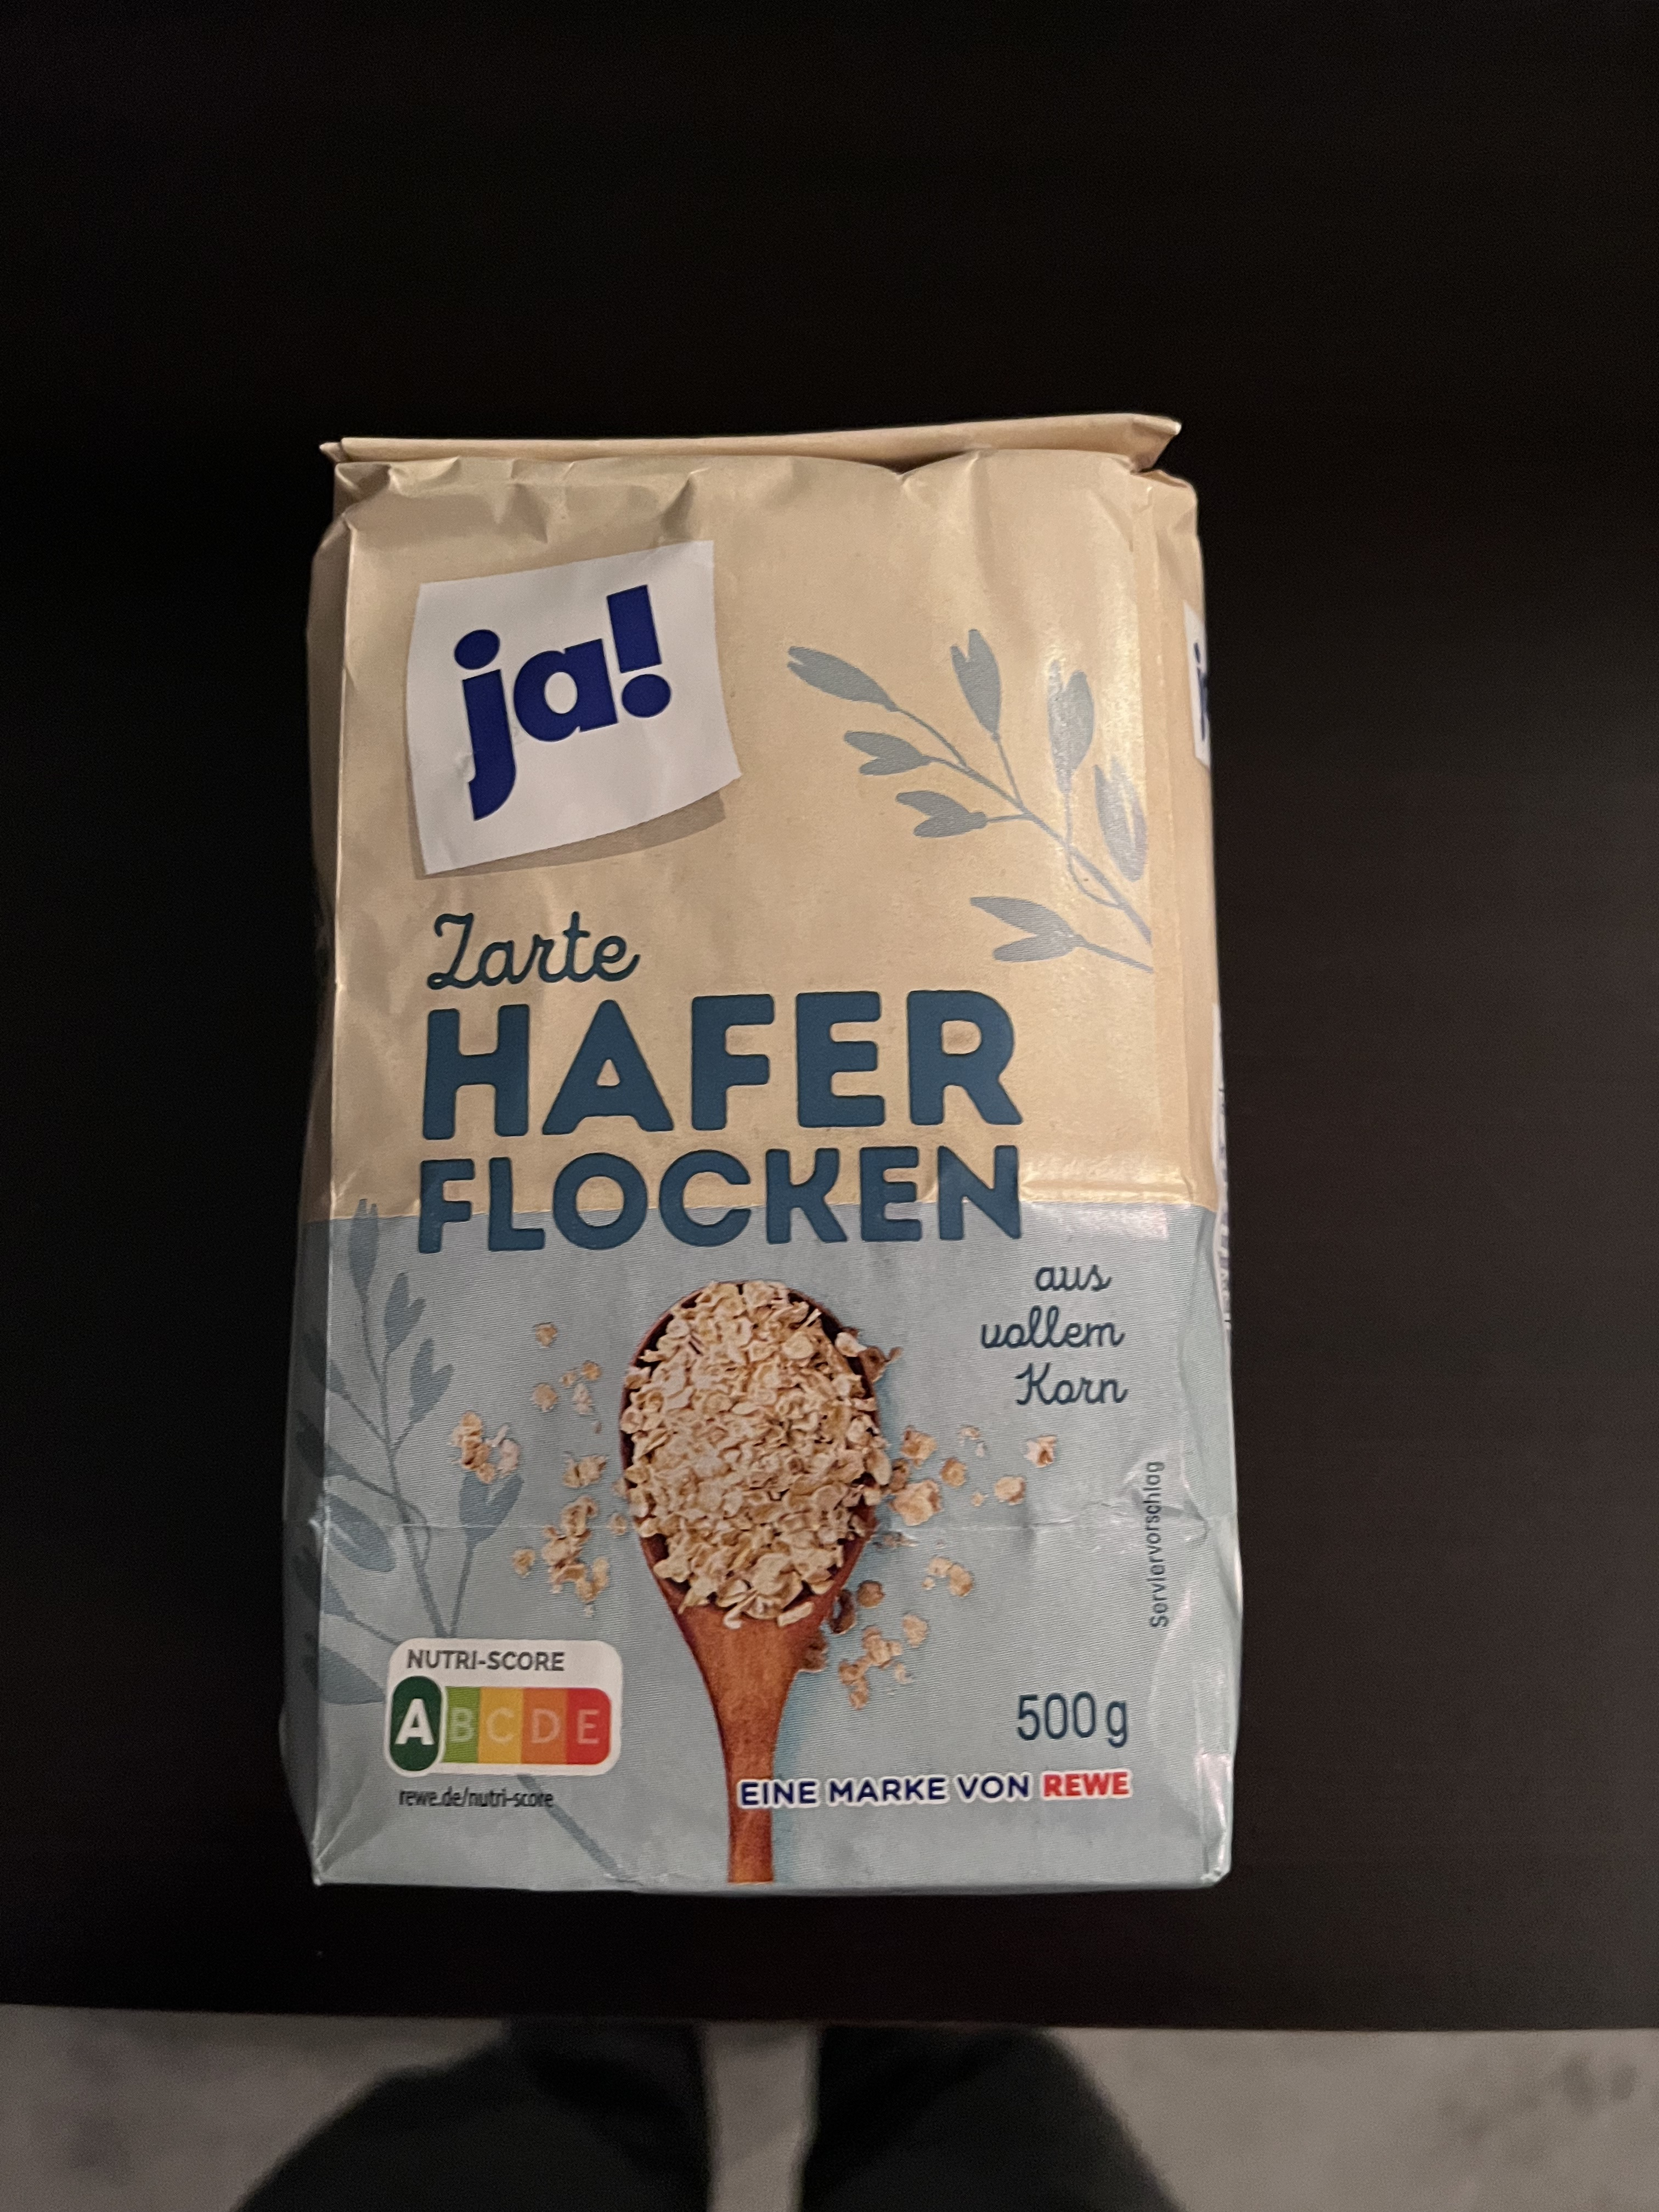haferflocken_ja: (286, 413, 1253, 1904)
